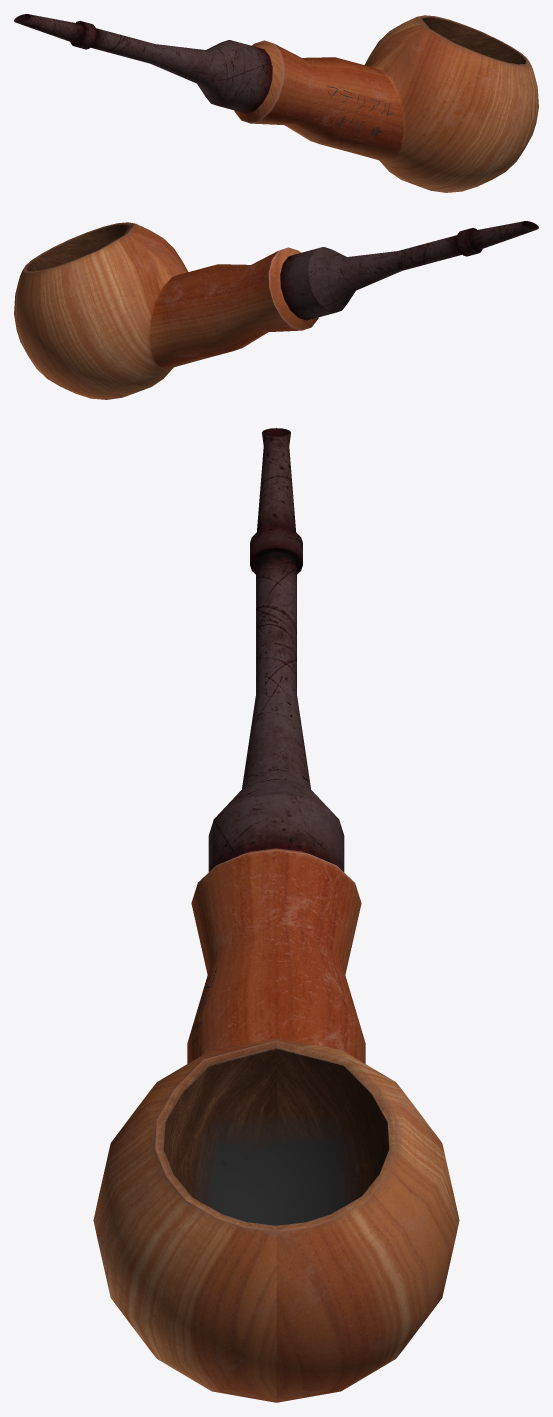
File: asian_smoking_pipe.glb
3 renders of one model, top to bottom at view 1: azimuth 30°, elevation 25°; view 2: azimuth 150°, elevation 25°; view 3: azimuth 270°, elevation 25°, orthographic. The views are drawn at different scales.
Visible parts, largest first — view 1: smoke_0; view 2: smoke_0; view 3: smoke_0.
Part boxes in pixels (x1=…): smoke_0: x1=14, y1=14, x2=538, y2=192; smoke_0: x1=14, y1=221, x2=538, y2=399; smoke_0: x1=93, y1=428, x2=459, y2=1402.
Bounding box in the file's own units: 4.16 × 2.1 × 1.29.
Materials: 1 (1 with a texture image).
